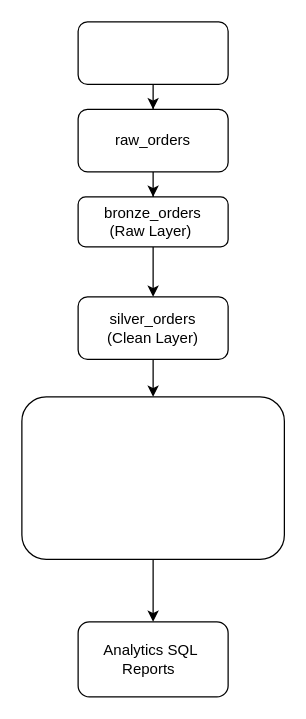
The diagram is 306 pixels wide and 719 high, and some of its shapes have lost their labels. Here are the shapes that lost their labels. From the top down, the box of each, then its label:
(77, 21, 228, 84): orders.csv
(21, 396, 284, 559): Gold Layer dim_customer dim_product dim_date fact_sales
